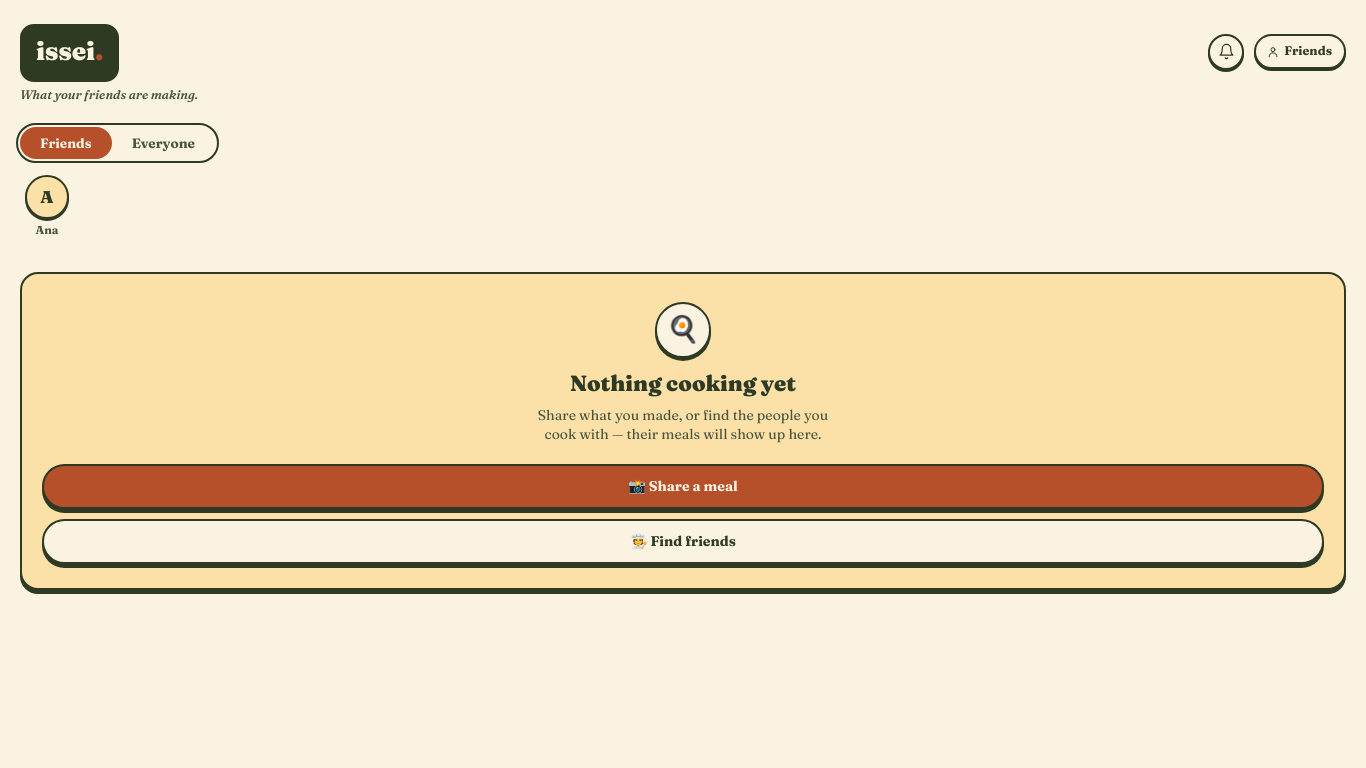
Scenario: Feed (Home) › the Everyone empty state is discovery-flavored, not the friends cold-start
Check: the heading "Nothing cooking yet" is shown, box [570,369,796,397]
Step 1. Click the tab "Everyone" → (163,143), box [112,127,215,159]
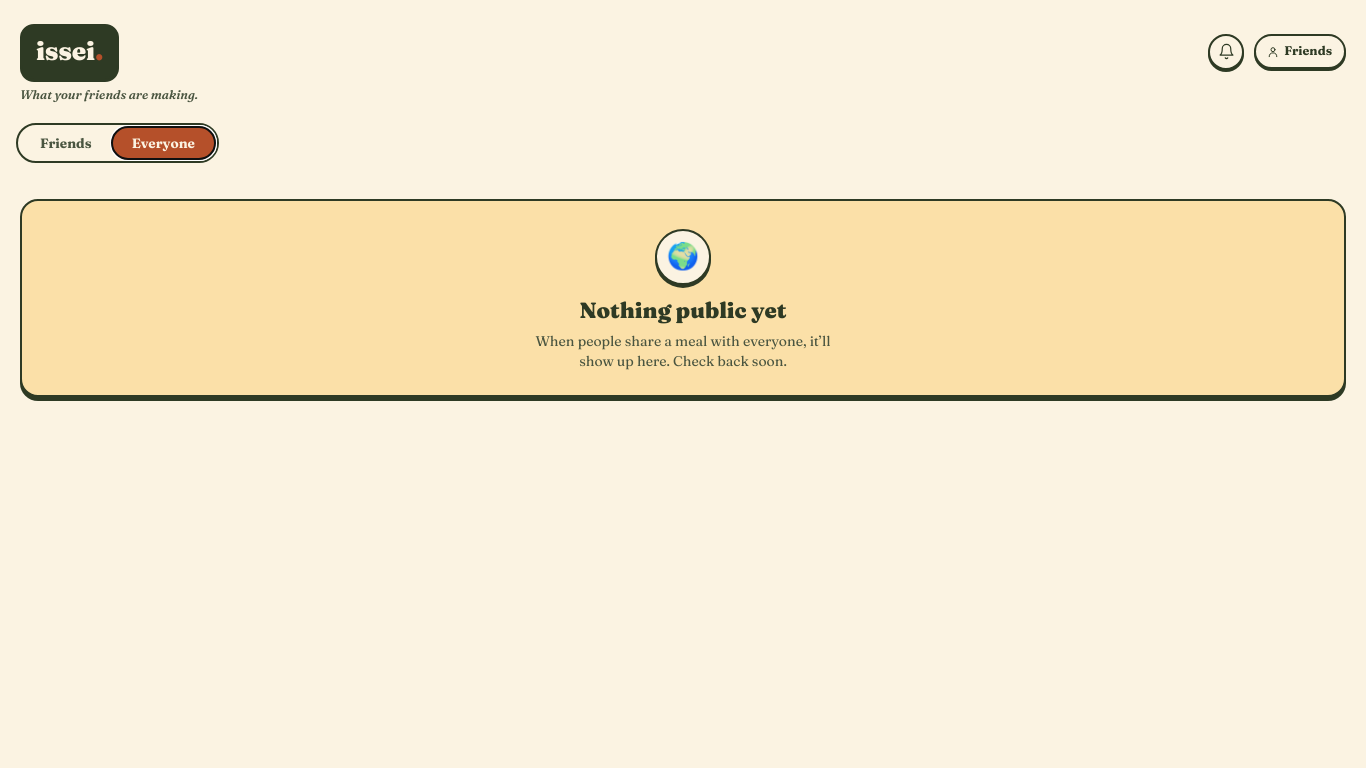
Check: the number of buttons named "find friends" is 1, box [1254,34,1346,69]
Check: the heading "Nothing public yet" is shown, box [580,296,786,324]
